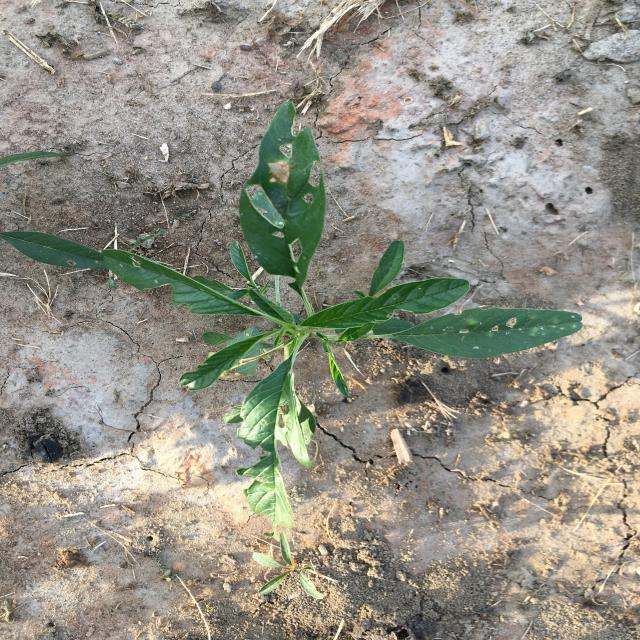Waterhemp: (100, 101, 584, 541), (252, 532, 340, 599)
